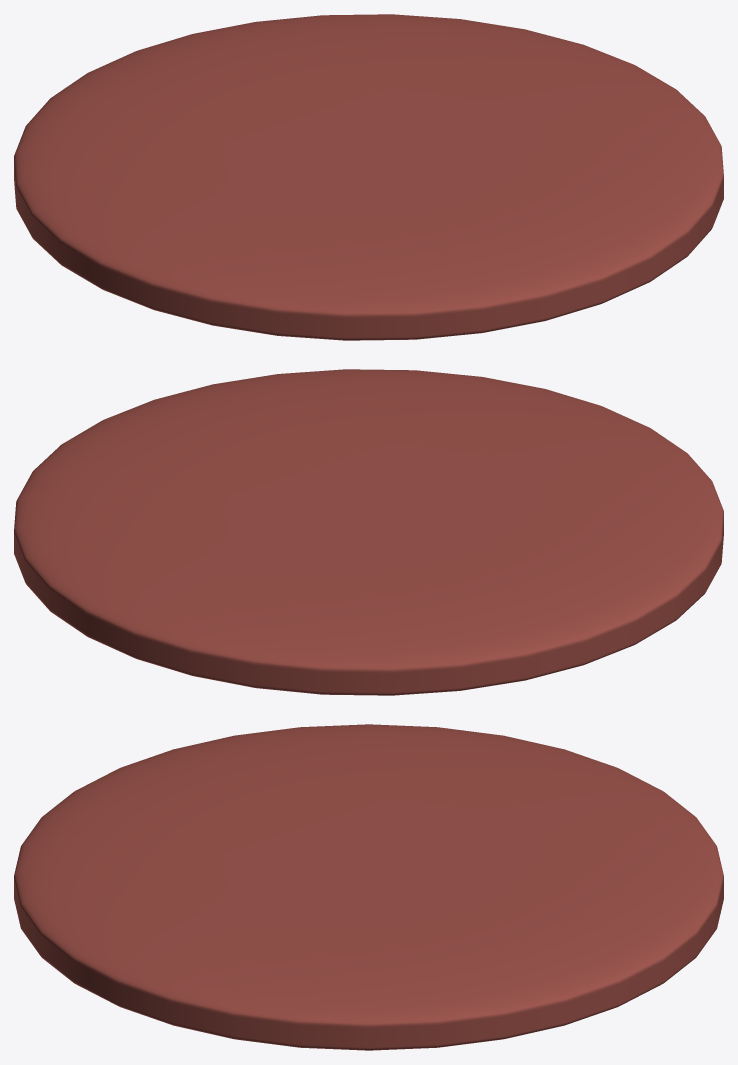
The model's file is Carne.glb.
3 renders of one model, top to bottom at view 1: azimuth 30°, elevation 25°; view 2: azimuth 150°, elevation 25°; view 3: azimuth 270°, elevation 25°, orthographic.
Parts seen in each view (by area): view 1: Cylinder.007; view 2: Cylinder.007; view 3: Cylinder.007.
Boxes of the visible parts, <box> form: Cylinder.007: <box>14,14,723,340</box>; Cylinder.007: <box>14,369,723,695</box>; Cylinder.007: <box>14,724,723,1050</box>.
Bounding box in the file's own units: 7.59 × 0.6876 × 7.59.
